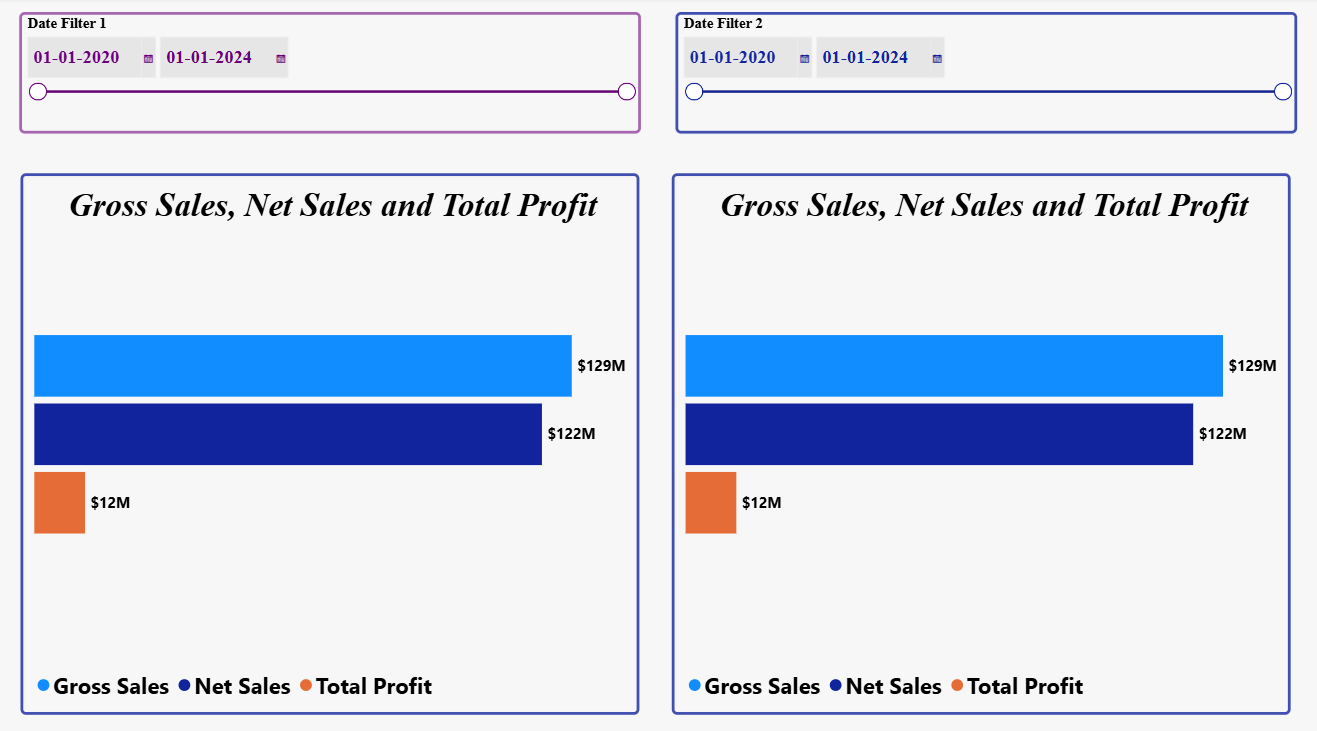

What the dashboard file says about the page in this screenshot:
{"tool":"powerbi","page":{"name":"Comparison between two periods","canvas":[1920,1080],"ordinal":3},"visuals":[{"type":"slicer","fields":{"Values":["Fact Sheet.Date (dd/mm/yyyy)"]},"box":[30,22,900,176],"z":0},{"type":"slicer","fields":{"Values":["Fact Sheet.Date (dd/mm/yyyy)"]},"box":[980,22,900,176],"z":1000},{"type":"clusteredBarChart","fields":{"Y":["Measures Table.Gross Sales","Measures Table.Net Sales","Measures Table.Total Profit"]},"box":[32,256,896,784],"z":6001},{"type":"clusteredBarChart","fields":{"Y":["Measures Table.Gross Sales","Measures Table.Net Sales","Measures Table.Total Profit"]},"box":[976,256,896,784],"z":6002}]}

Visuals, with their boxes in screenshot pixels (x1, y1, x2, y2), scaled from the page's 1920x1080 canvas onto the 1317x731 screenshot:
slicer - Fact Sheet.Date (dd/mm/yyyy): left=21, top=15, right=638, bottom=134
slicer - Fact Sheet.Date (dd/mm/yyyy): left=672, top=15, right=1290, bottom=134
clusteredBarChart - Measures Table.Gross Sales x Measures Table.Net Sales: left=22, top=173, right=637, bottom=704
clusteredBarChart - Measures Table.Gross Sales x Measures Table.Net Sales: left=669, top=173, right=1284, bottom=704
